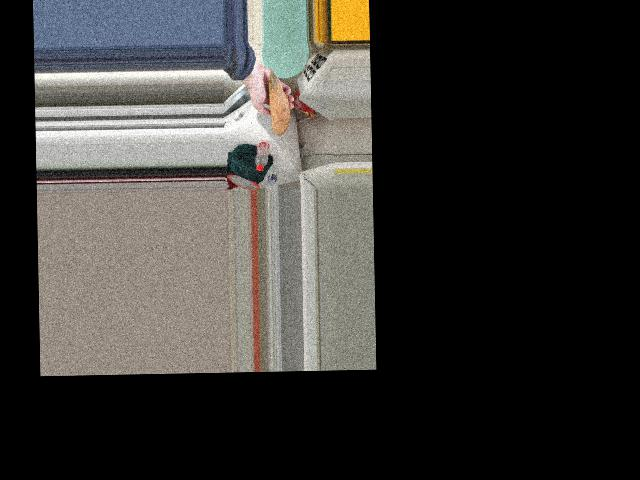sweet_potato: (268, 73, 290, 129)
